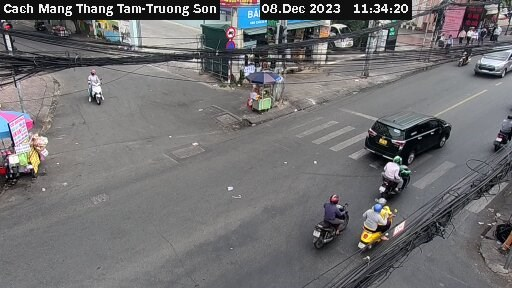car: (360, 107, 455, 161), (474, 40, 512, 80)
motorbike: (70, 65, 131, 116), (367, 156, 430, 205), (301, 197, 356, 248), (353, 202, 403, 251), (491, 108, 512, 152), (455, 45, 478, 70)
